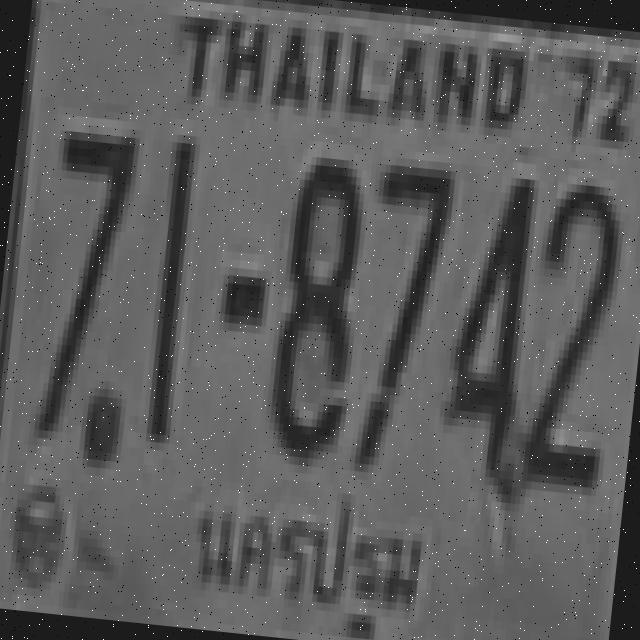1: (143, 130, 199, 438)
2: (515, 172, 626, 488)
4: (435, 165, 535, 462)
7: (30, 122, 136, 436), (349, 156, 452, 470), (34, 122, 136, 397)
8: (264, 147, 370, 460)
NakhonPathom: (174, 472, 443, 640)
